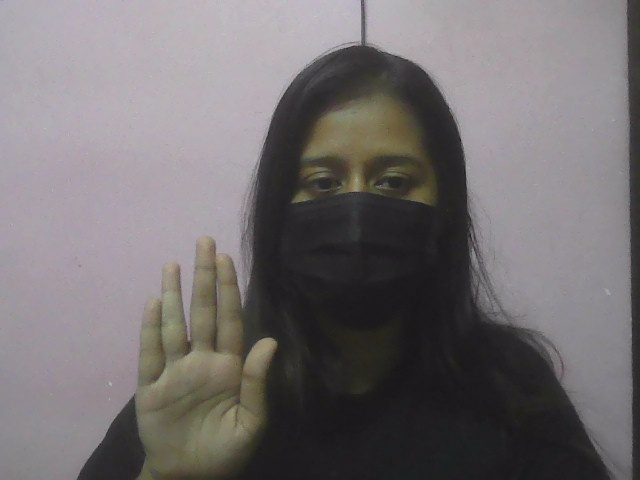Hello: (95, 233, 303, 479)
